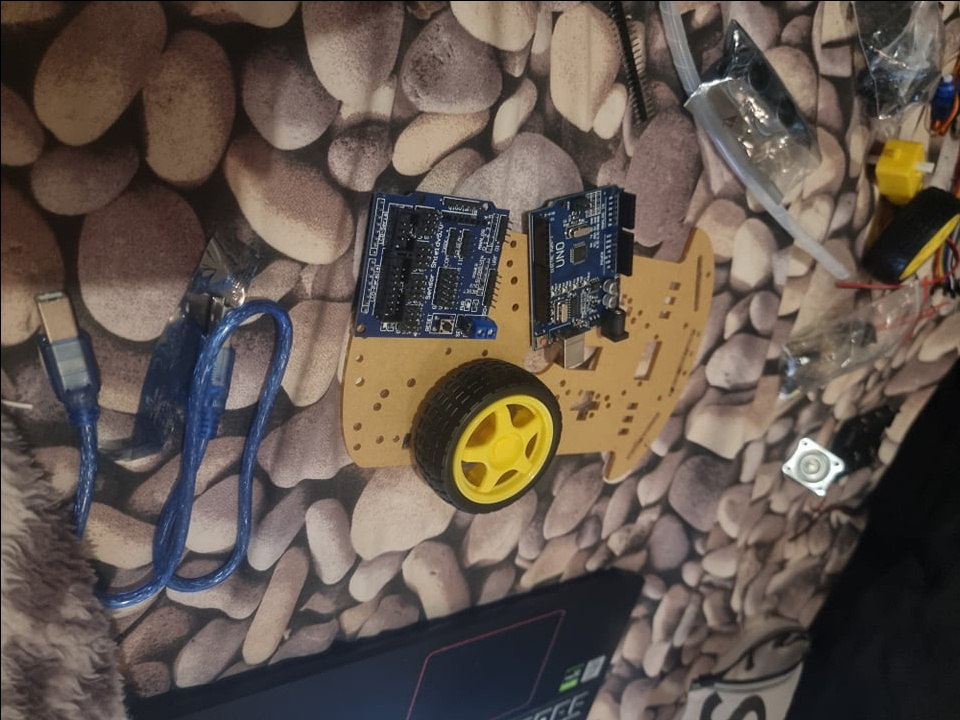5V EXPANSION: (357, 191, 510, 337)
BATTERY BOX: (835, 396, 903, 473)
UNO R3: (522, 190, 640, 366)
